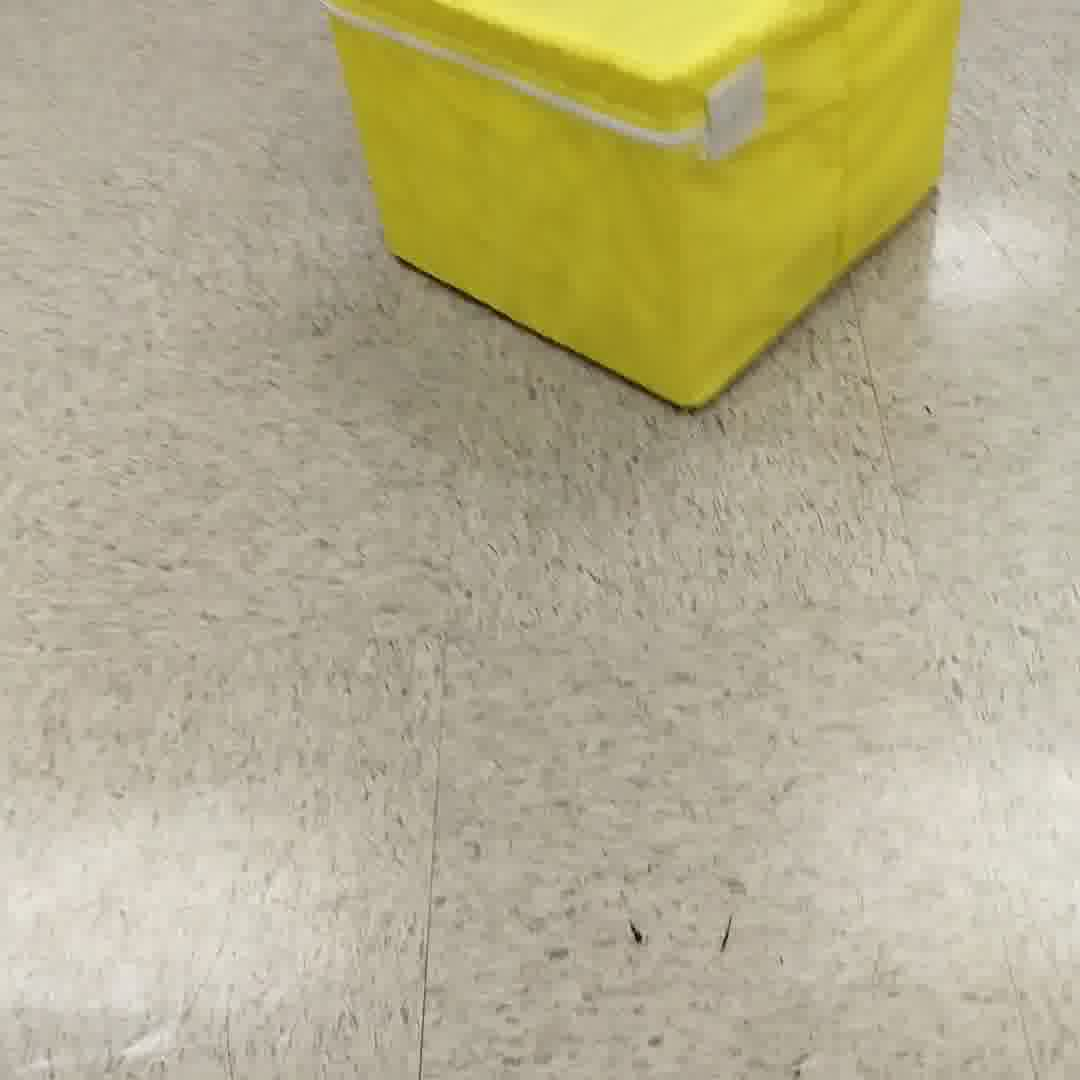box: (327, 9, 953, 425)
